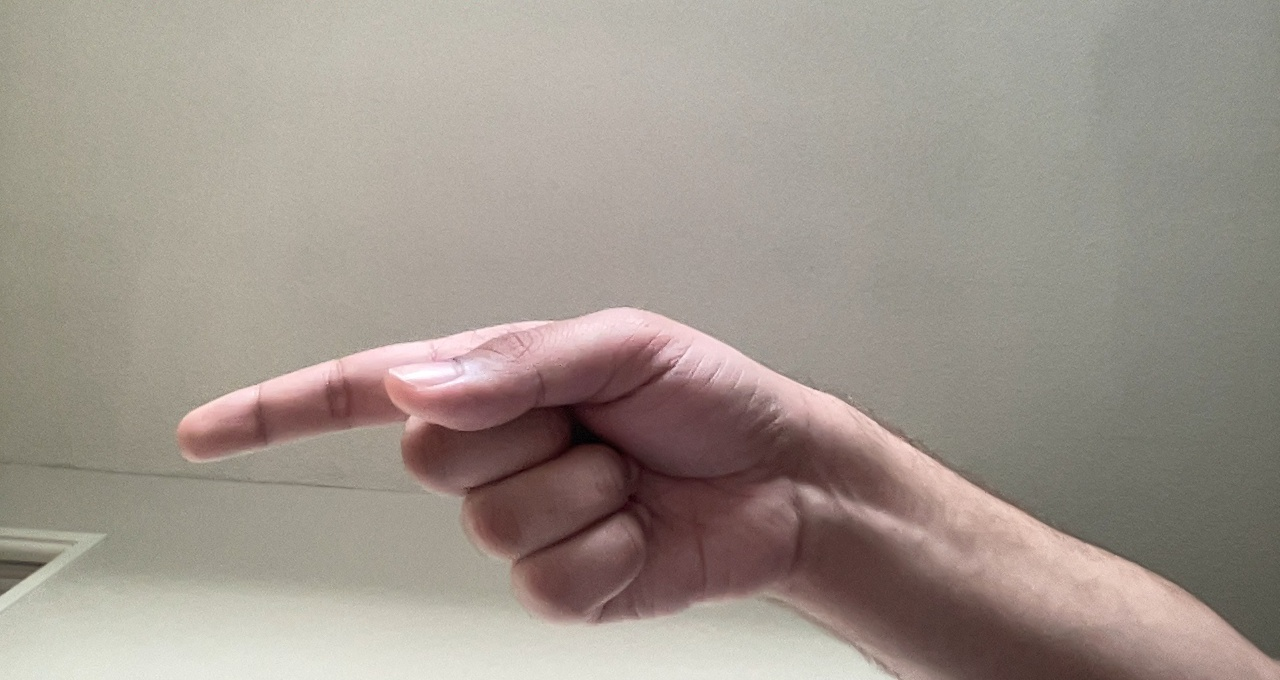fingerright: (171, 301, 816, 632)
